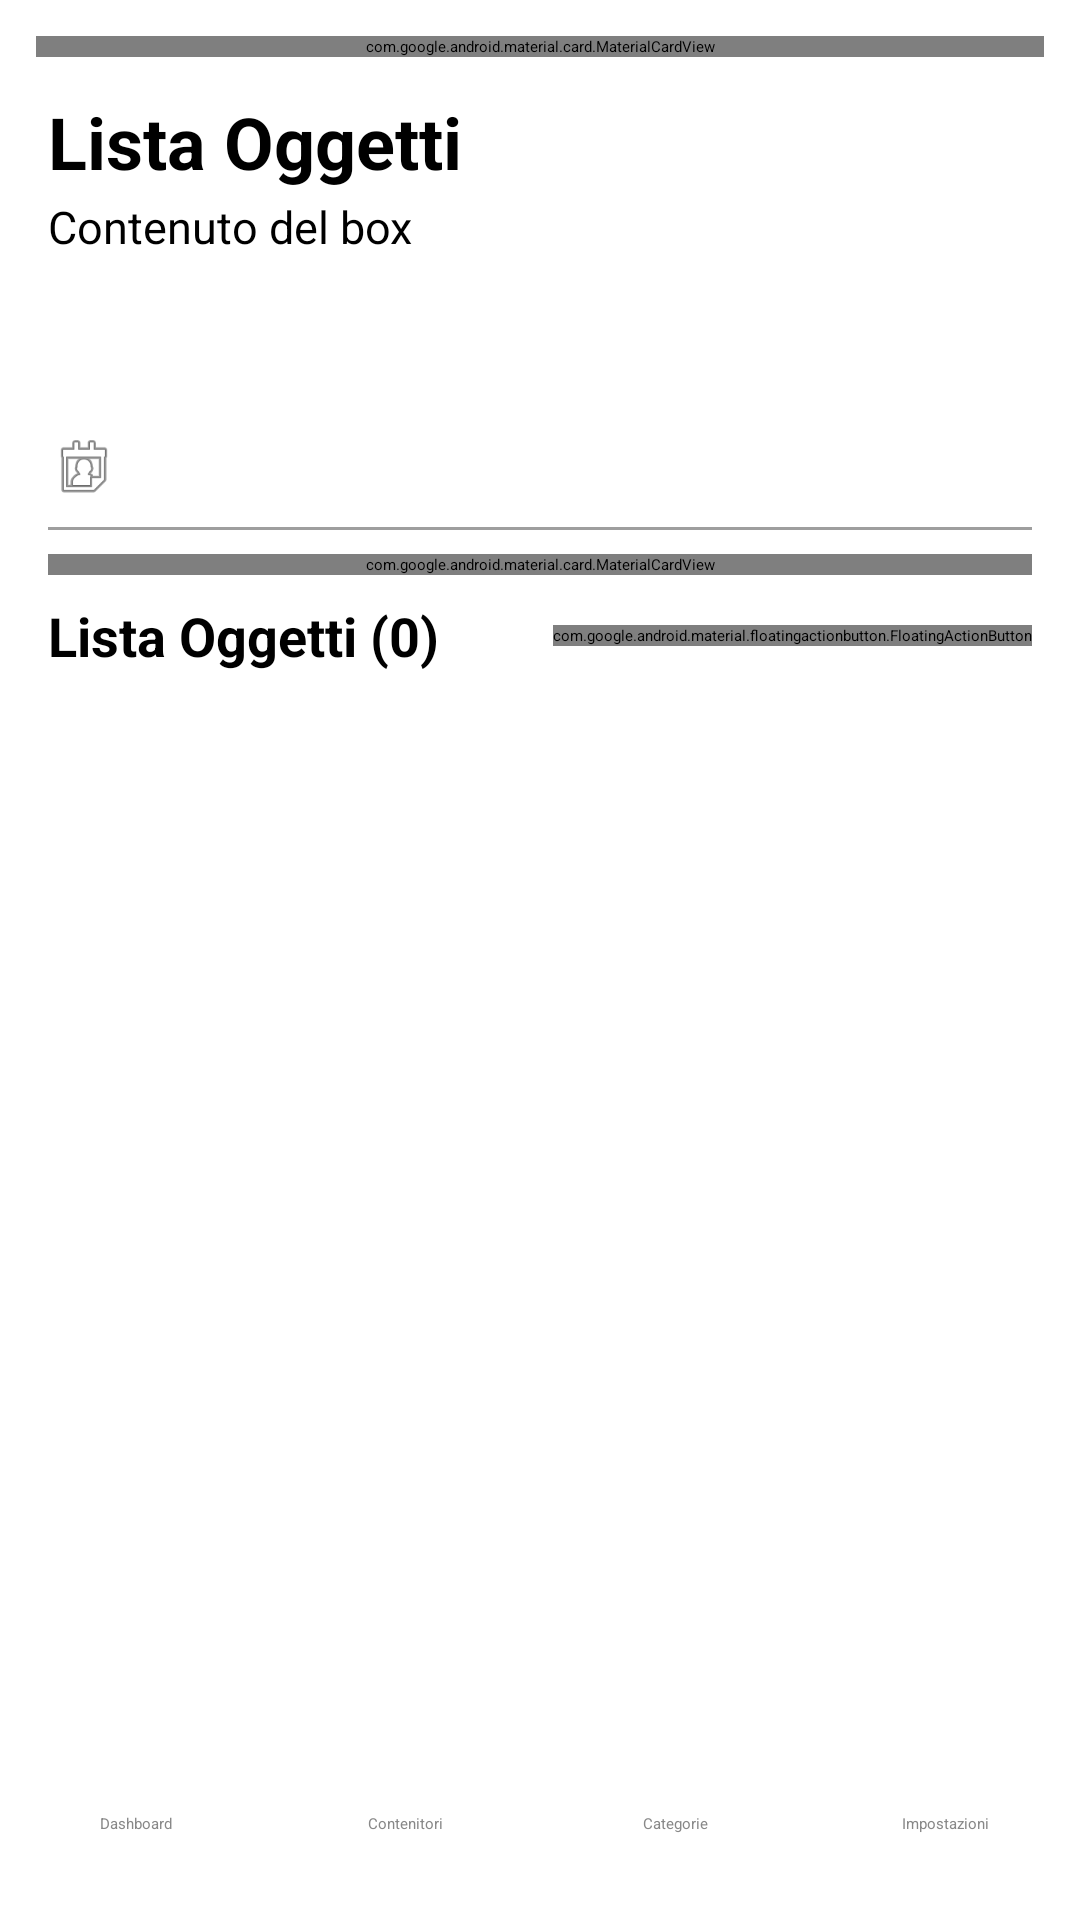

Icon bounding boxes for this 1080w x 1920h phone screenshot, format (x1, y1, x2, y2):
calendar: (61, 440, 107, 493)
